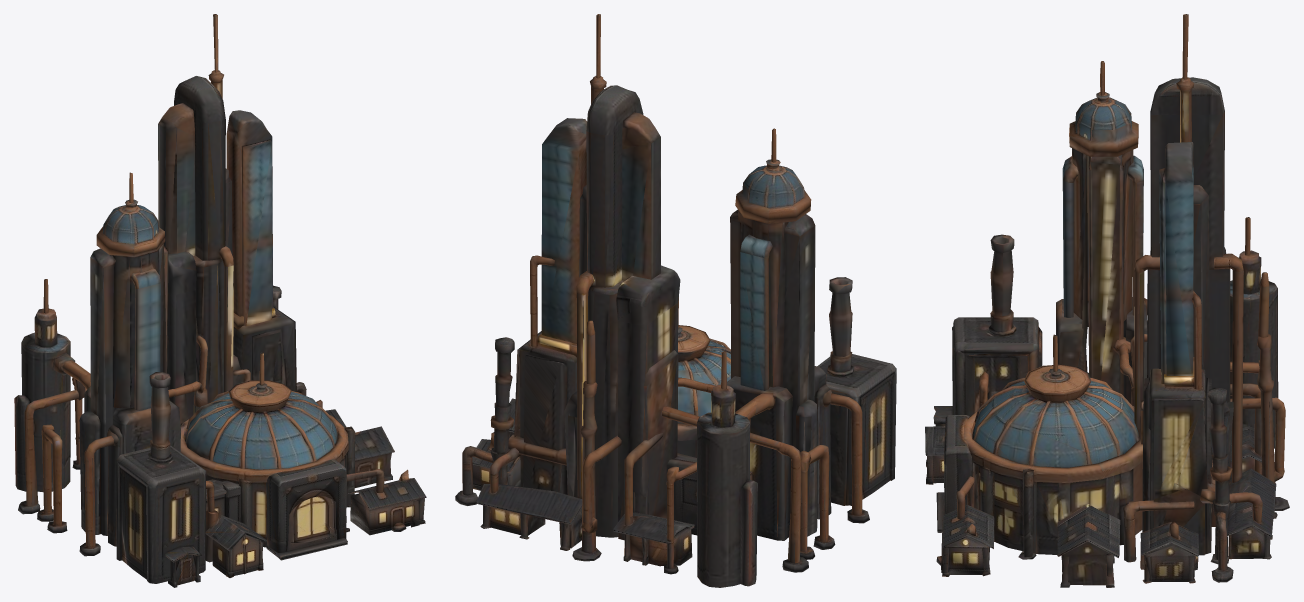
Rendered from metropolis.glb.
3 views of the same model, side by side, from view 1: azimuth 30°, elevation 25°; view 2: azimuth 150°, elevation 25°; view 3: azimuth 270°, elevation 25° (orthographic). The views are drawn at different scales.
Bounding box in the file's own units: 0.7249 × 1 × 0.6531.
Materials: 1 (1 with a texture image).
